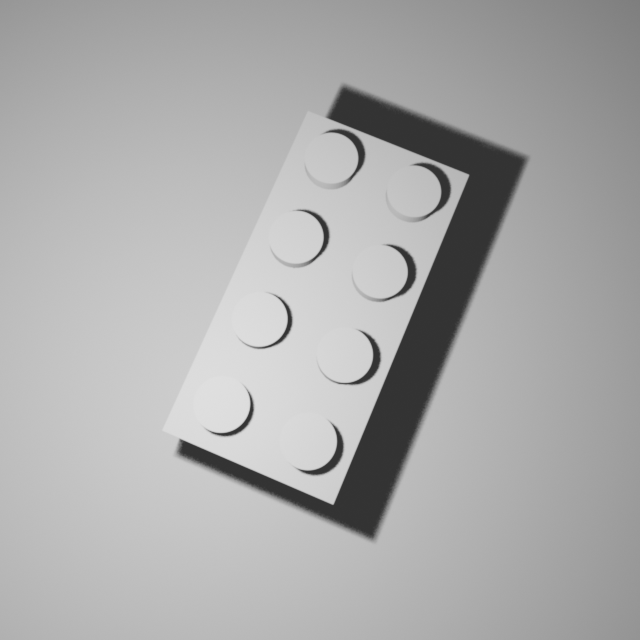lego_2x4: (159, 103, 472, 505)
